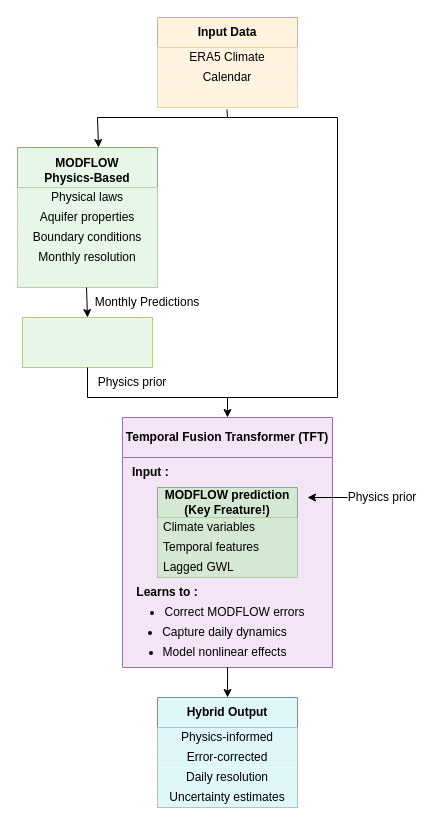
The diagram is 445 pixels wide and 825 high, and some of its shapes have lost their labels. The centre of each missing label's shape, as x and y in pixels:
"Historical GWL" belongs at point 227,97.
"Interpolate & Scale (Monthly -> Daily)" belongs at point 87,342.
"Simplified physics" belongs at point 87,277.
